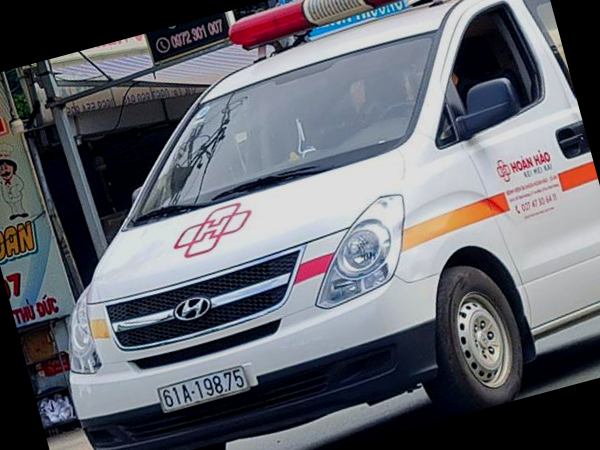lisence: (158, 365, 248, 414)
